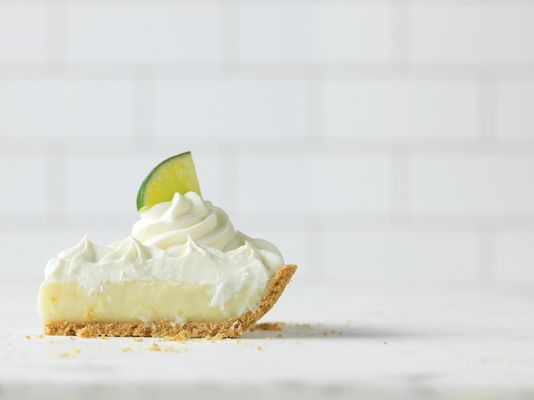sushi: (36, 150, 299, 340)
